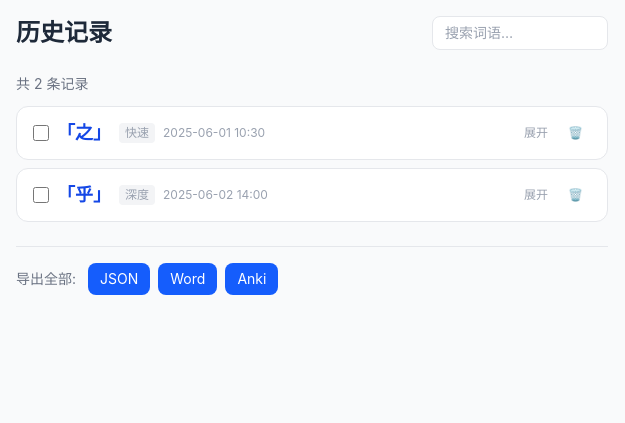
Test: HistoryView › expands and collapses a record
Step 1. Click the button "展开" in the row of "2025-06-01 10:30" → (536, 133), box [516,121,556,145]
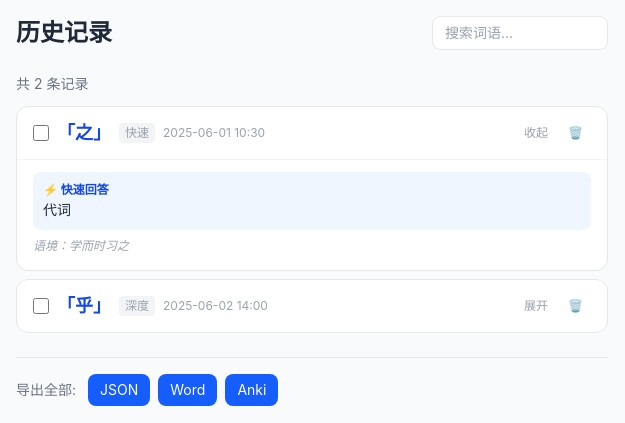
Now the text "收起" is shown, box [516,121,556,145]
Now the text "⚡ 快速回答" is shown, box [43,182,109,197]
